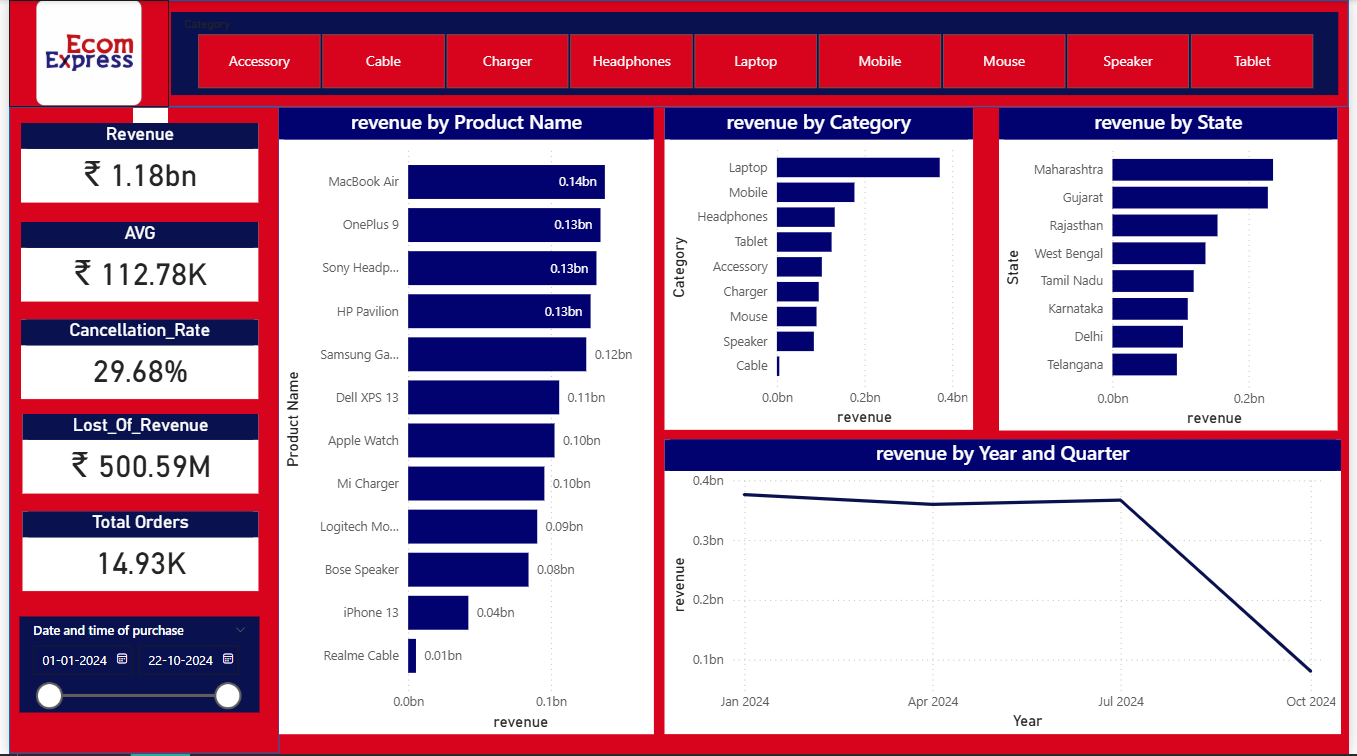

The dashboard page shown, as its layout file describes it:
{"tool":"powerbi","page":{"name":"Page 1","canvas":[1280,720],"ordinal":0},"visuals":[{"type":"shape","box":[0,101,258.4,617.9],"z":0},{"type":"shape","box":[0,0,1279.4,102],"z":1000},{"type":"image","box":[0,0,153.4,101.6],"z":2000},{"type":"barChart","fields":{"Y":["Table.revenue"],"Category":["Products.Product Name"]},"box":[258.4,102.7,357.8,598],"z":3000},{"type":"barChart","fields":{"Y":["Table.revenue"],"Category":["Products.Category"]},"box":[626.2,102.5,294.4,307.4],"z":4000},{"type":"slicer","fields":{"Values":["Products.Category"]},"box":[154.1,11.6,1114.8,79.5],"z":5000},{"type":"barChart","fields":{"Category":["Customers.State"],"Y":["Table.revenue"]},"box":[945.9,102.7,323,308.1],"z":6000},{"type":"lineChart","fields":{"Category":["Orders.Date and time of purchase.Variation.Date Hierarchy.Year","Orders.Date and time of purchase.Variation.Date Hierarchy.Quarter","Orders.Date and time of purchase.Variation.Date Hierarchy.Month","Orders.Date and time of purchase.Variation.Date Hierarchy.Day"],"Y":["Table.revenue"]},"box":[626.2,419.6,645.7,281.4],"z":7000},{"type":"card","title":"Revenue","fields":{"Values":["Table.revenue"]},"box":[11.6,117.6,226.9,76.2],"z":8000},{"type":"card","title":"AVG","fields":{"Values":["Table.avg"]},"box":[11.6,212,226.9,76.2],"z":9000},{"type":"card","title":"Cancellation_Rate","fields":{"Values":["Table.cancellation rate"]},"box":[11.6,304.8,226.9,76.2],"z":10000},{"type":"card","title":"Lost_Of_Revenue","fields":{"Values":["Table.lost_rev_cancellation"]},"box":[13.3,395.9,225.3,76.2],"z":11000},{"type":"card","title":"Total Orders","fields":{"Values":["CountNonNull(Orders.OrderID)"]},"box":[13.3,488.7,225.3,76.2],"z":12000},{"type":"slicer","fields":{"Values":["Orders.Date and time of purchase"]},"box":[9.9,588.1,228.6,91.1],"z":13000}]}

Visuals, with their boxes in screenshot pixels (x1, y1, x2, y2), scaled from the page's 1280x720 canvas onto the 1357x756 screenshot:
shape: bbox=[0, 106, 274, 755]
shape: bbox=[0, 0, 1356, 107]
image: bbox=[0, 0, 163, 107]
barChart - Table.revenue x Products.Product Name: bbox=[274, 108, 653, 736]
barChart - Table.revenue x Products.Category: bbox=[664, 108, 976, 430]
slicer - Products.Category: bbox=[163, 12, 1345, 96]
barChart - Customers.State x Table.revenue: bbox=[1003, 108, 1345, 431]
lineChart - Orders.Date and time of purchase.Variation.Date Hierarchy.Year x Orders.Date and time of purchase.Variation.Date Hierarchy.Quarter: bbox=[664, 441, 1348, 736]
"Revenue" card: bbox=[12, 123, 253, 203]
"AVG" card: bbox=[12, 223, 253, 303]
"Cancellation_Rate" card: bbox=[12, 320, 253, 400]
"Lost_Of_Revenue" card: bbox=[14, 416, 253, 496]
"Total Orders" card: bbox=[14, 513, 253, 593]
slicer - Orders.Date and time of purchase: bbox=[10, 618, 253, 713]
